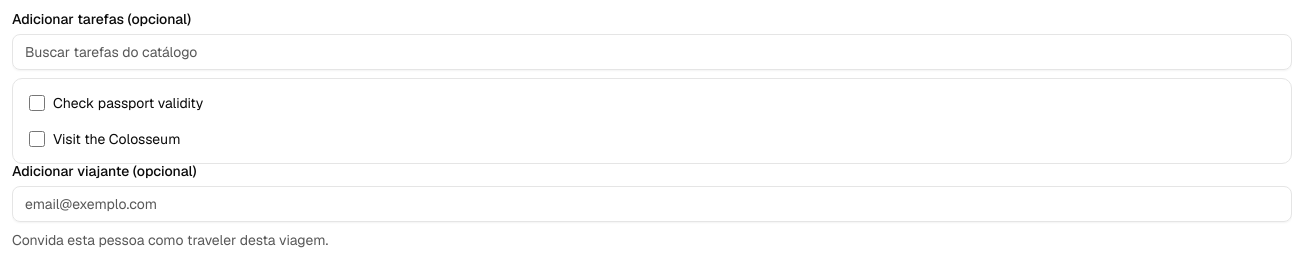
OrganizerTripExtras › filters the task list by search query
Type "colosseum" into the field with placeholder "Buscar tarefas do catálogo".
click(652, 52); type("colosseum")  # box [12,34,1292,70]
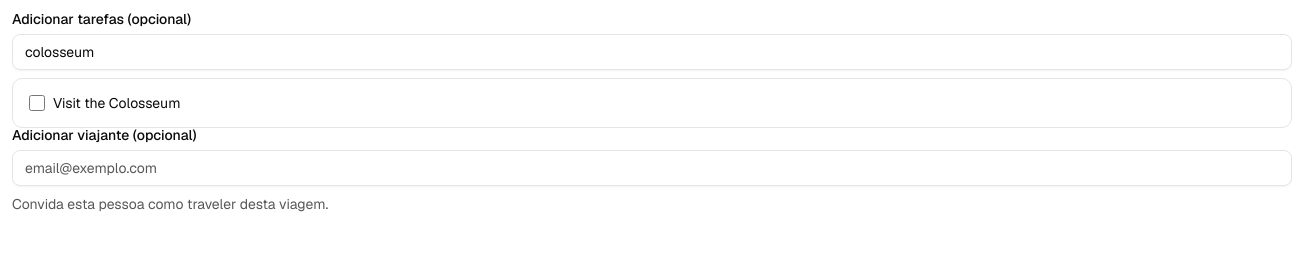
Expected: the text "Visit the Colosseum" is shown, [53,93,180,113]
Now the text "Check passport validity" is gone
